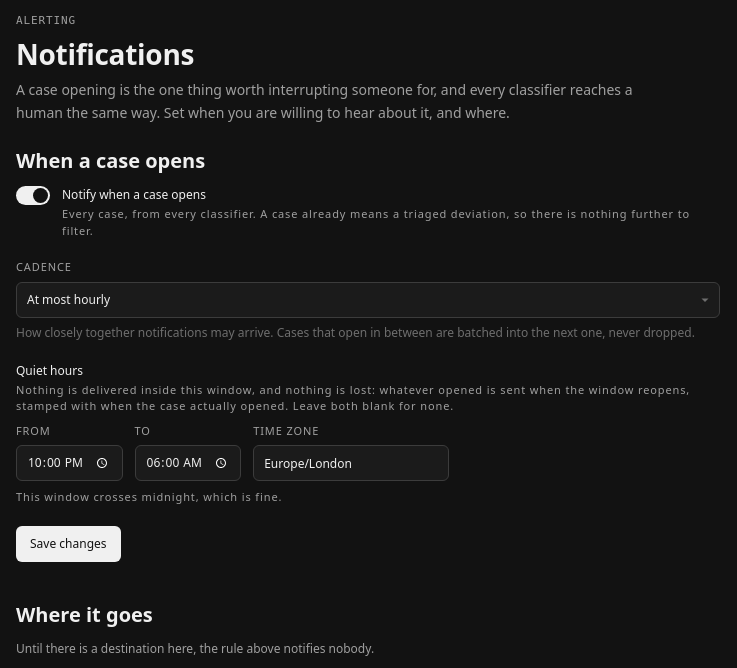
it: the case-opened rule › mirrors the saved policy, and names the window that crosses midnight
Expected: the switch named "Notify when a case opens" is shown, x1=16 y1=186 x2=50 y2=205
Expected: the dropdown labelled "Cadence" shows "At most hourly", x1=16 y1=282 x2=720 y2=318
Replace the text in the time field labelled "From" with "01:00" at (69, 463), box x1=16 y1=445 x2=123 y2=481
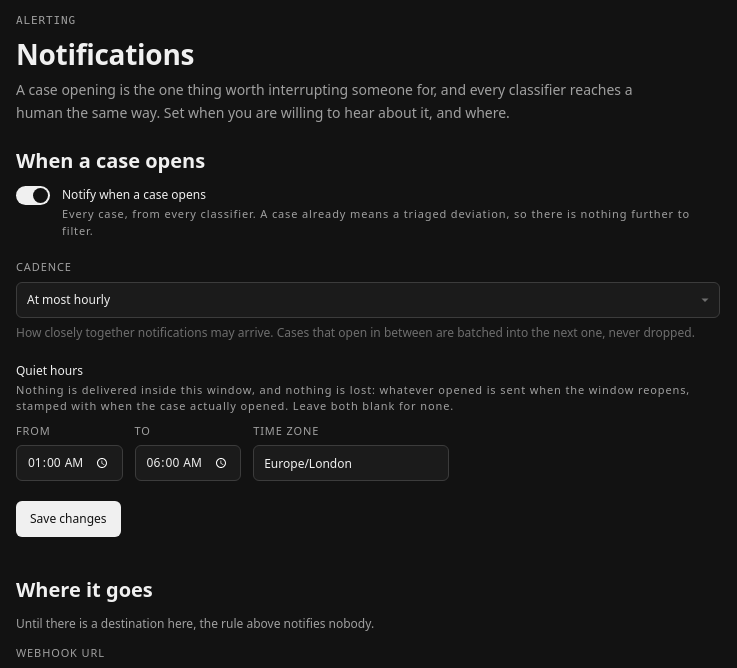
Now the text "crosses midnight" is gone
